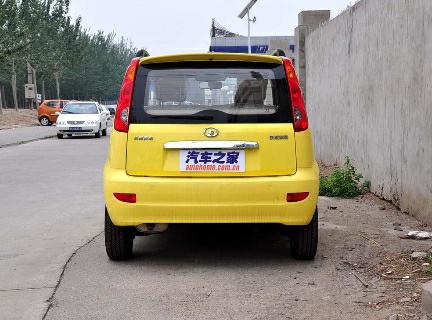长城-精灵: (99, 47, 325, 271)
